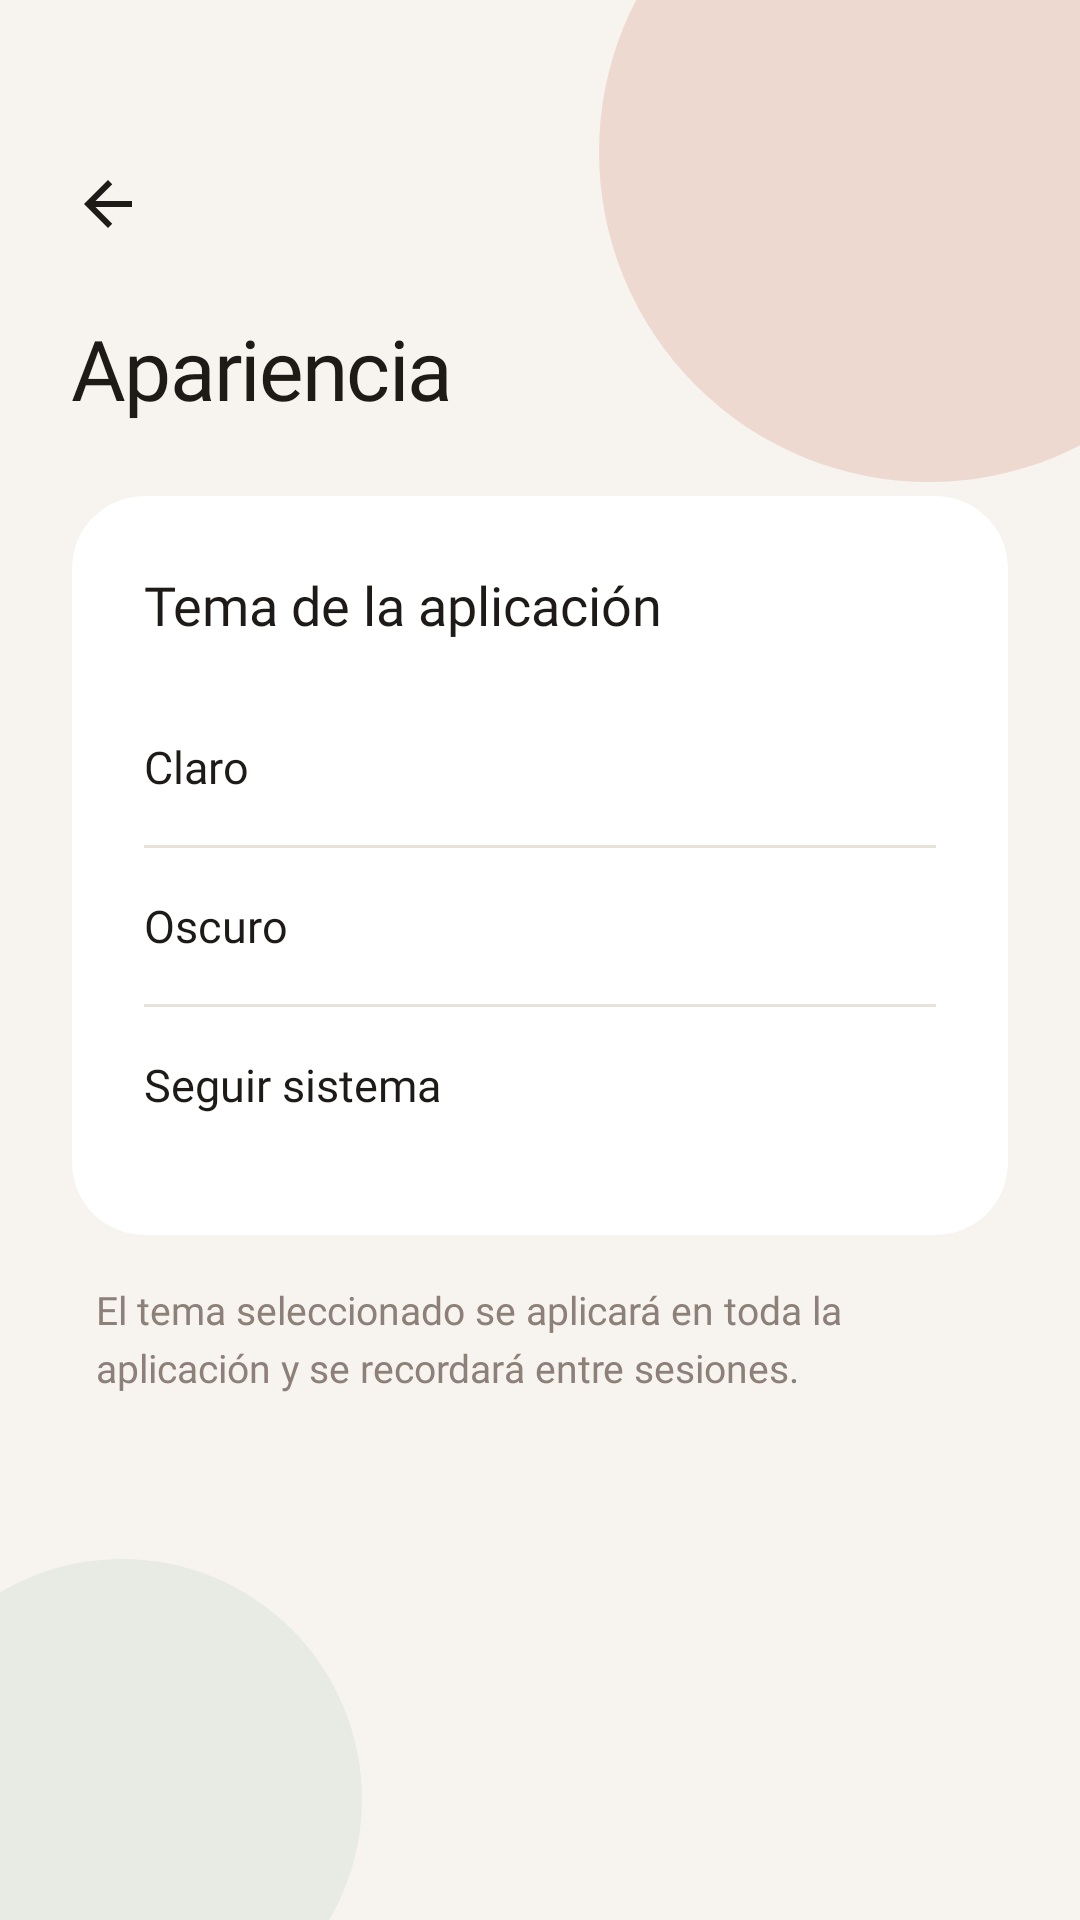

Screen size 1080×1920. Icon name, then its box in pixels as BBox(x1, y1, x2, y2):
Regresar: BBox(84, 180, 132, 228)
